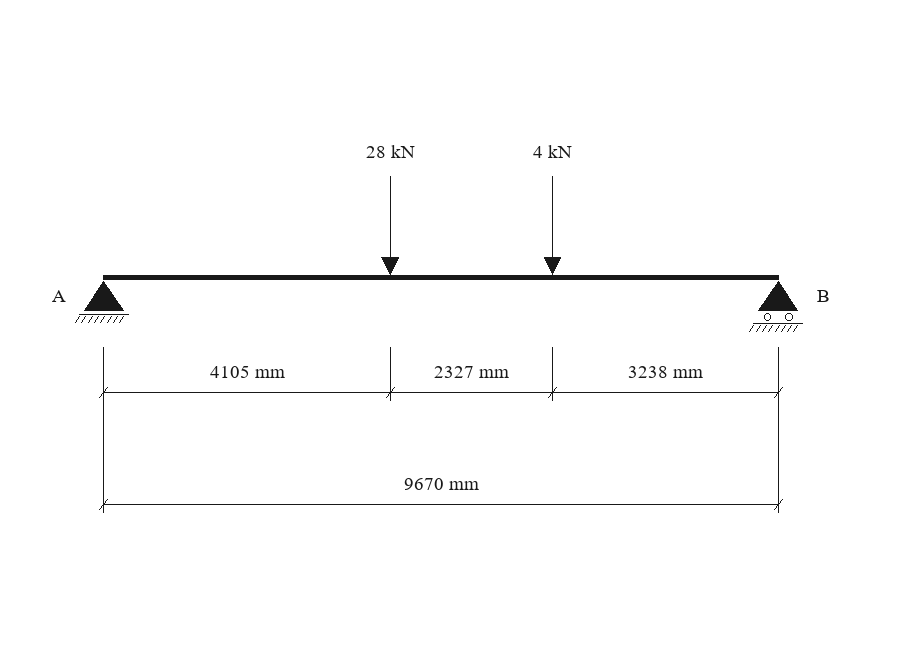pin_support: (75, 281, 129, 323)
point_load: (381, 176, 399, 275), (544, 176, 561, 275)
roller_support: (749, 281, 803, 332)
